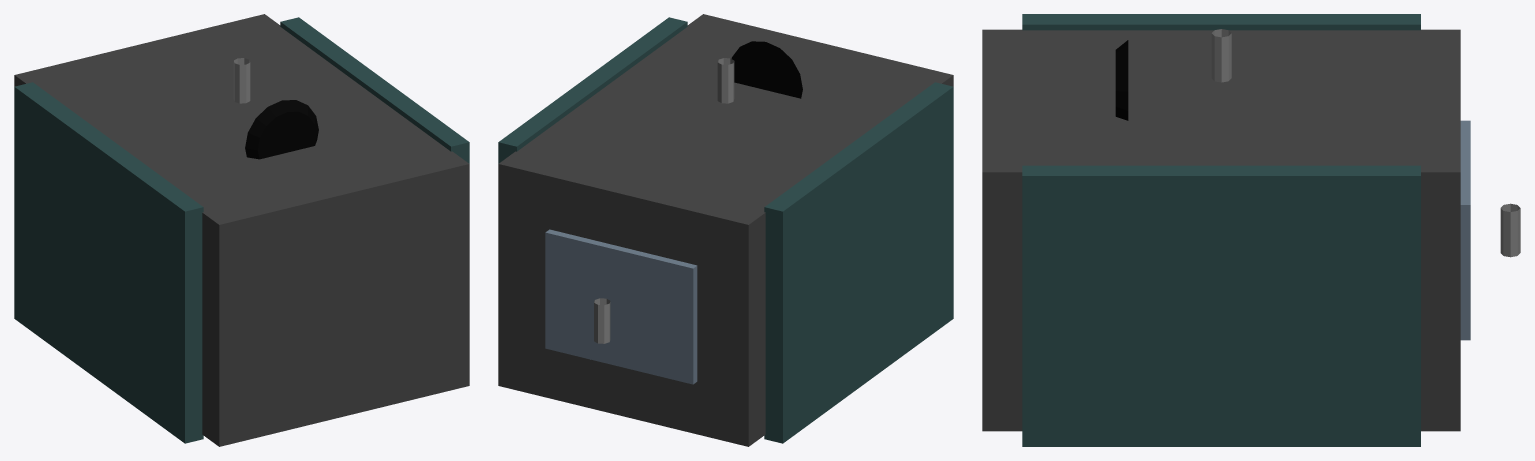
Rendered from lapan_a3_complete.dae.
3 views of the same model, side by side, from view 1: azimuth 30°, elevation 25°; view 2: azimuth 150°, elevation 25°; view 3: azimuth 270°, elevation 25° (orthographic). The views are drawn at different scales.
Parts seen in each view (by area): view 1: Satellite_Body, Left_Solar_Panel, Right_Solar_Panel, Main_Sensor, Communication_Antenna; view 2: Satellite_Body, Left_Solar_Panel, Top_Radiator, Right_Solar_Panel, Main_Sensor, Communication_Antenna, Main_Antenna; view 3: Right_Solar_Panel, Satellite_Body, Left_Solar_Panel, Top_Radiator, Communication_Antenna, Main_Antenna, Main_Sensor.
Boxes of the visible parts, x1=… form: Satellite_Body: x1=14, y1=14, x2=469, y2=446; Left_Solar_Panel: x1=14, y1=82, x2=203, y2=443; Right_Solar_Panel: x1=280, y1=17, x2=469, y2=163; Main_Sensor: x1=245, y1=100, x2=318, y2=159; Communication_Antenna: x1=233, y1=58, x2=250, y2=103; Satellite_Body: x1=498, y1=14, x2=953, y2=446; Left_Solar_Panel: x1=764, y1=82, x2=953, y2=443; Top_Radiator: x1=545, y1=229, x2=697, y2=384; Right_Solar_Panel: x1=498, y1=17, x2=687, y2=163; Main_Sensor: x1=731, y1=41, x2=802, y2=98; Communication_Antenna: x1=717, y1=58, x2=734, y2=103; Main_Antenna: x1=594, y1=298, x2=610, y2=343; Right_Solar_Panel: x1=1022, y1=165, x2=1420, y2=446; Satellite_Body: x1=982, y1=29, x2=1460, y2=431; Left_Solar_Panel: x1=1022, y1=14, x2=1420, y2=30; Top_Radiator: x1=1460, y1=120, x2=1470, y2=340; Communication_Antenna: x1=1211, y1=29, x2=1231, y2=82; Main_Antenna: x1=1500, y1=203, x2=1520, y2=257; Main_Sensor: x1=1115, y1=40, x2=1128, y2=120.
Bounding box in the file's own units: 0.77 × 1.08 × 0.814.
